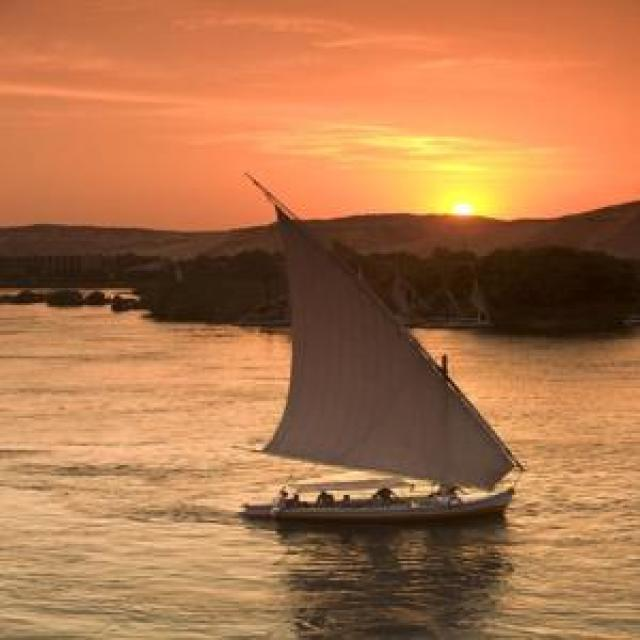sailboat: (225, 170, 516, 518)
